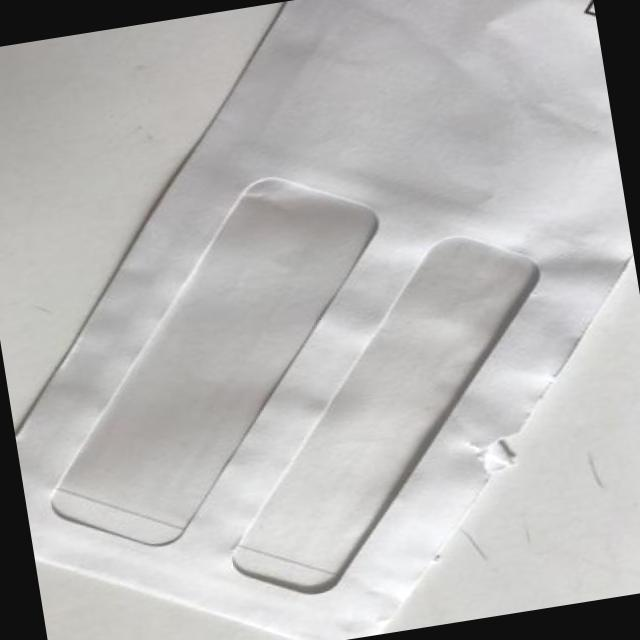paper: (15, 211, 446, 640), (192, 0, 640, 389)
